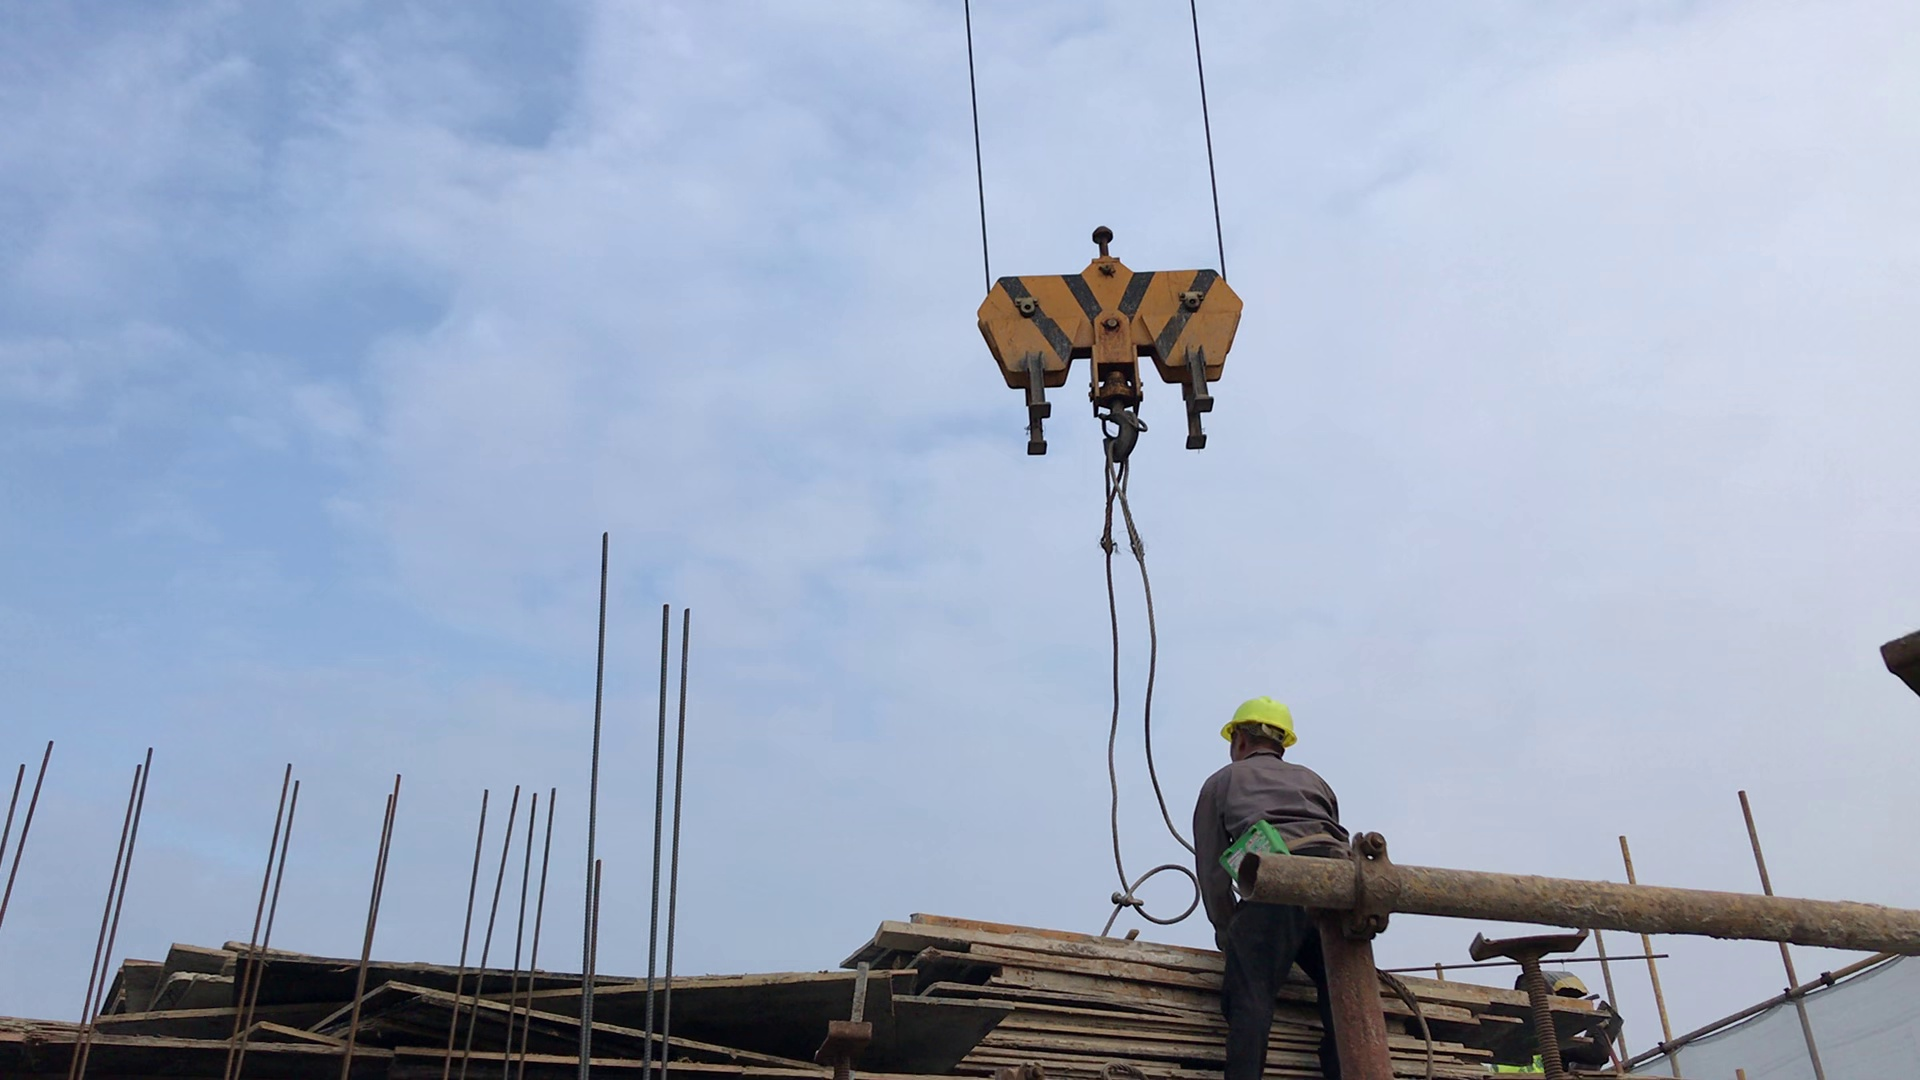board: (888, 914, 1612, 1080)
helmet: (1217, 693, 1300, 742)
hook: (973, 229, 1240, 460)
person: (1197, 695, 1374, 1080)
